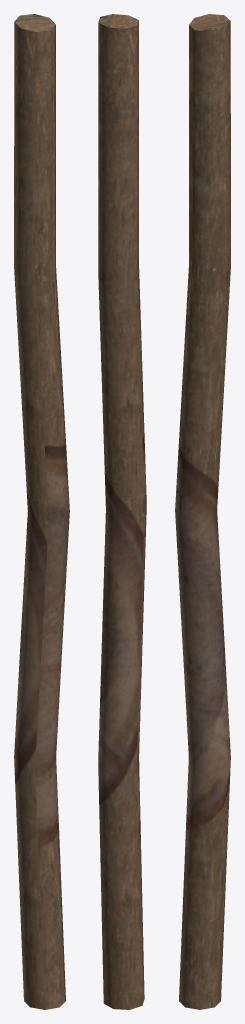
File: fence_pole.glb
3 renders of one model, left to right at view 1: azimuth 90°, elevation 25°; view 2: azimuth 150°, elevation 25°; view 3: azimuth 270°, elevation 25°, orthographic.
Visible parts, largest first — view 1: fence pole_Log_0; view 2: fence pole_Log_0; view 3: fence pole_Log_0.
Boxes of the visible parts, x1=… form: fence pole_Log_0: x1=14, y1=14, x2=69, y2=1009; fence pole_Log_0: x1=98, y1=14, x2=146, y2=1009; fence pole_Log_0: x1=175, y1=14, x2=230, y2=1009.
Size of the model in its own units: 0.0442 by 1.11 by 0.0574.
1 material, 1 textured.
